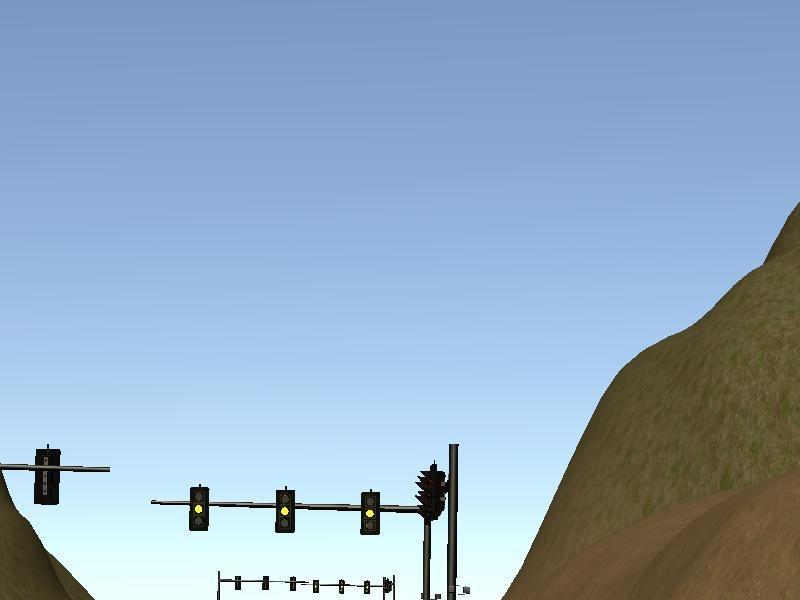YELLOW: (189, 486, 209, 530), (275, 488, 295, 532), (360, 491, 380, 535)
